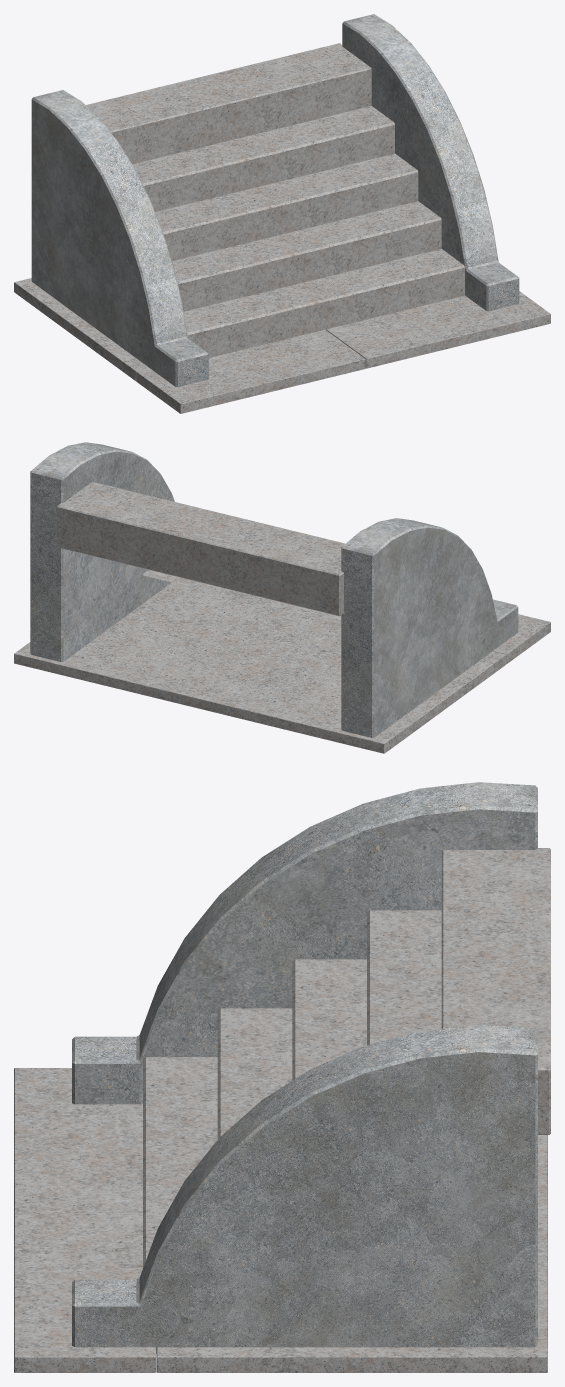
The model's file is SM_StoneStair01G.fbx.
The picture shows the model from 3 angles, top to bottom: view 1: azimuth 30°, elevation 25°; view 2: azimuth 150°, elevation 25°; view 3: azimuth 270°, elevation 25°; orthographic projection. The views are drawn at different scales.
Parts seen in each view (by area): view 1: SM_StoneStair01G; view 2: SM_StoneStair01G; view 3: SM_StoneStair01G.
Part boxes in pixels (x1=…): SM_StoneStair01G: x1=14, y1=14, x2=550, y2=413; SM_StoneStair01G: x1=14, y1=442, x2=550, y2=753; SM_StoneStair01G: x1=14, y1=782, x2=550, y2=1372.
Bounding box in the file's own units: 261 × 204 × 132.
